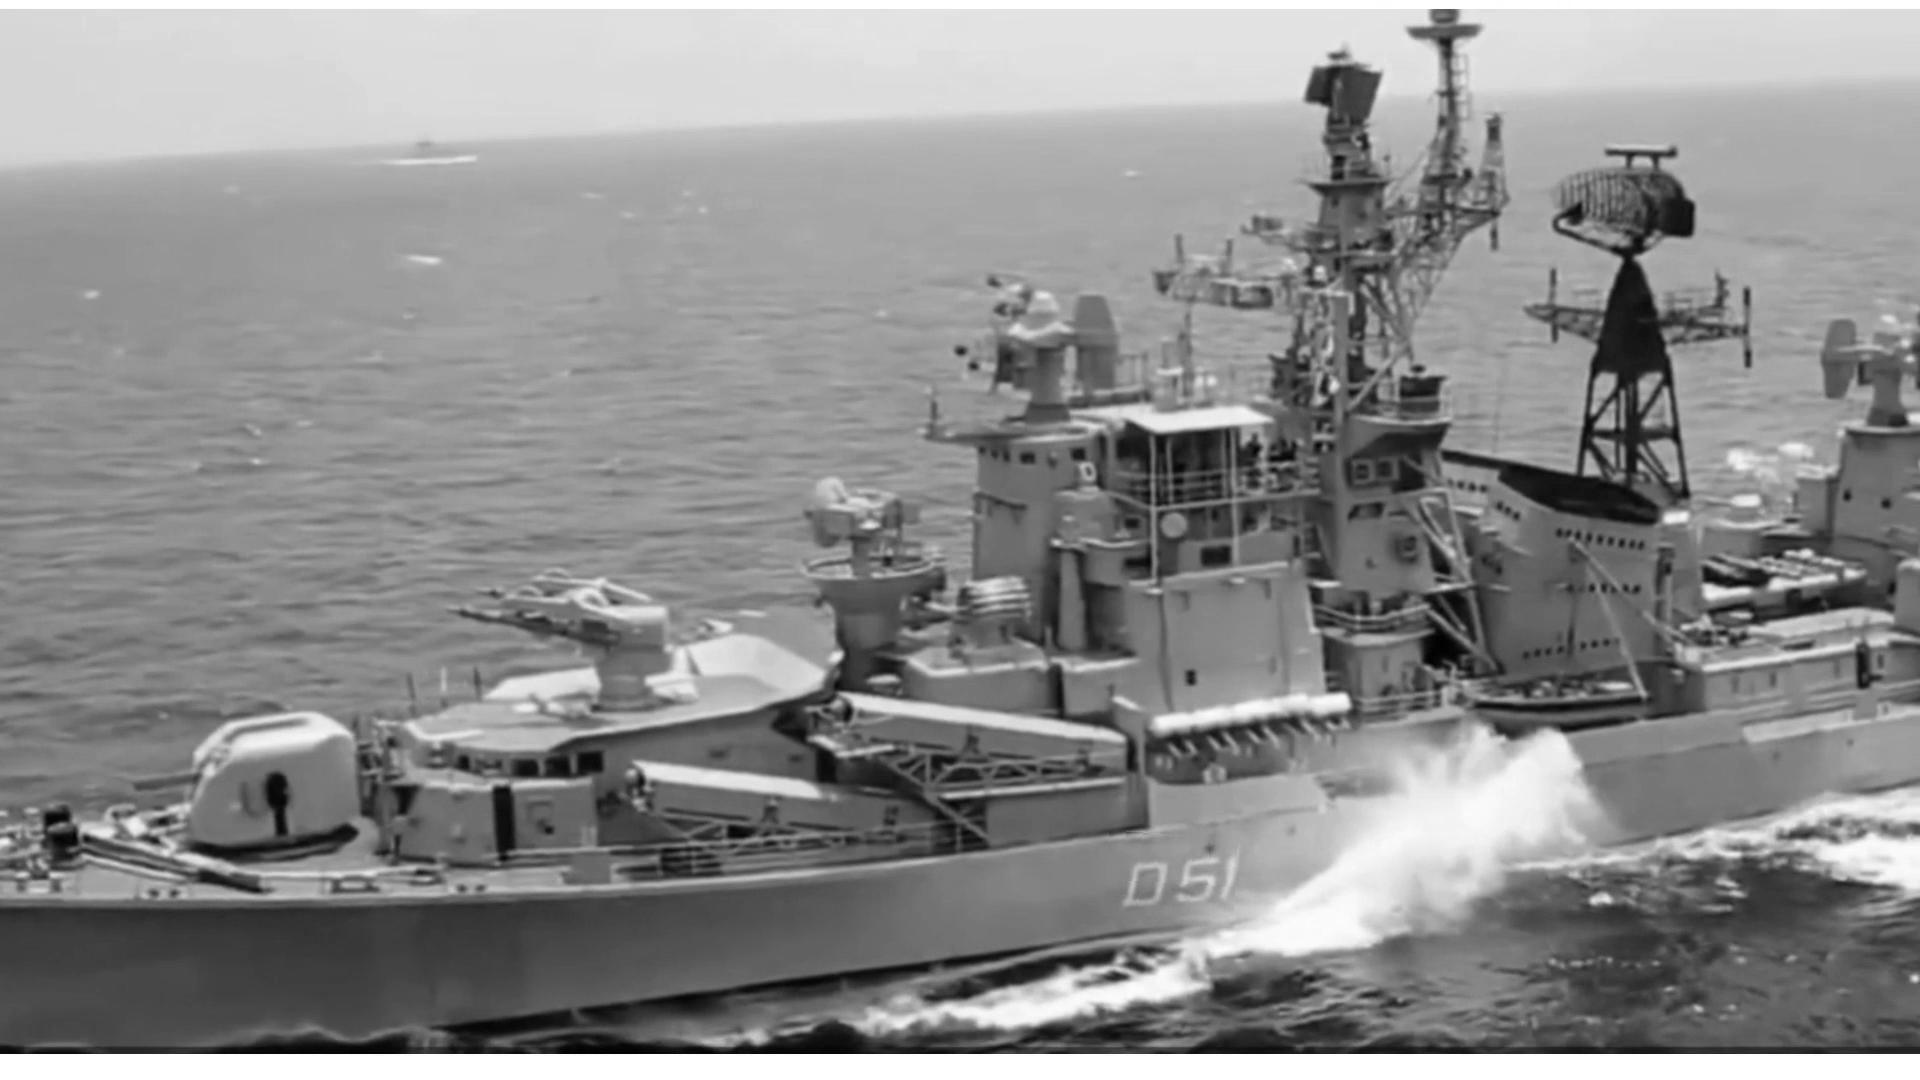OCR: (1100, 830, 1238, 917)
